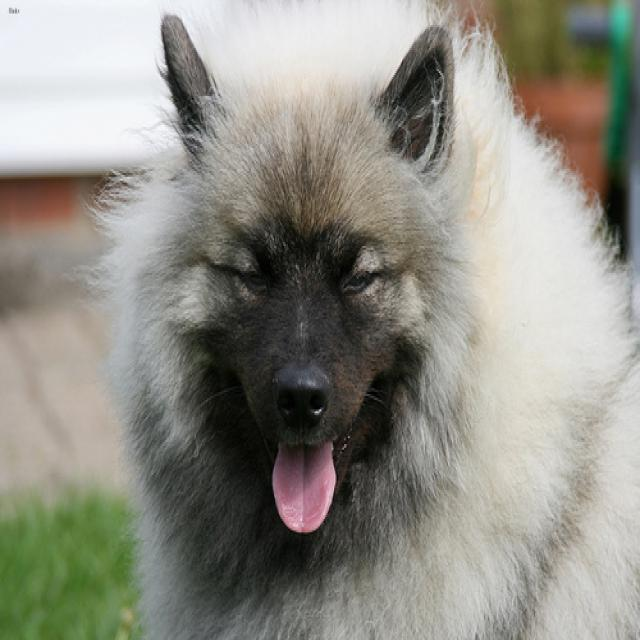dog-keeshond: (68, 2, 637, 636)
